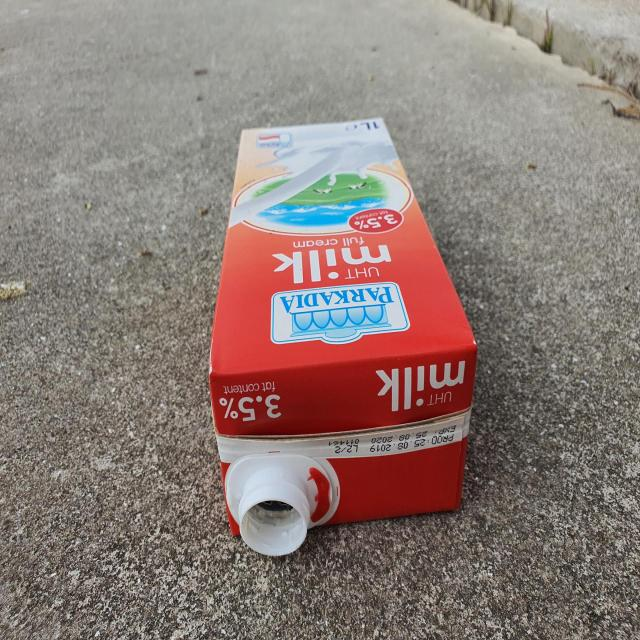paperpack: (209, 117, 477, 556)
